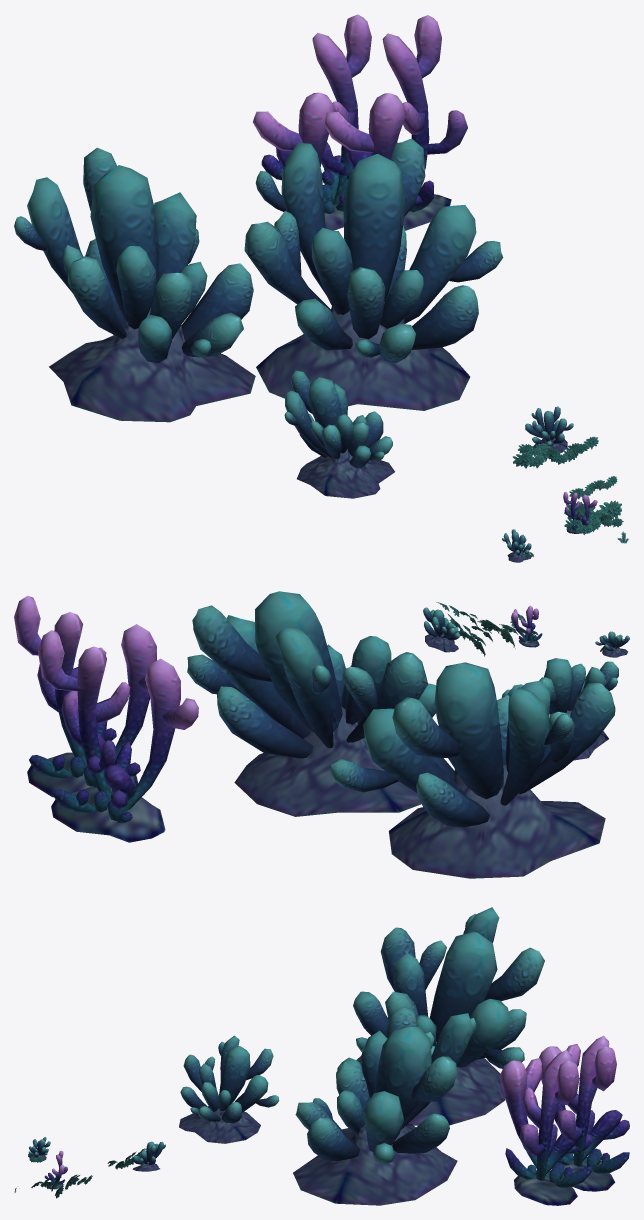
Rendered from boss_03_1.fbx.
The picture shows the model from 3 angles, top to bottom: view 1: azimuth 30°, elevation 25°; view 2: azimuth 150°, elevation 25°; view 3: azimuth 270°, elevation 25°; orthographic projection. The views are drawn at different scales.
Visible parts, largest first — view 1: boss_03; view 2: boss_03; view 3: boss_03.
Part boxes in pixels (x1,y1,x2,y2): boss_03: (14,14,628,562); boss_03: (14,591,629,878); boss_03: (14,907,629,1205).
Size of the model in its own units: 6940 by 3319 by 9552.
